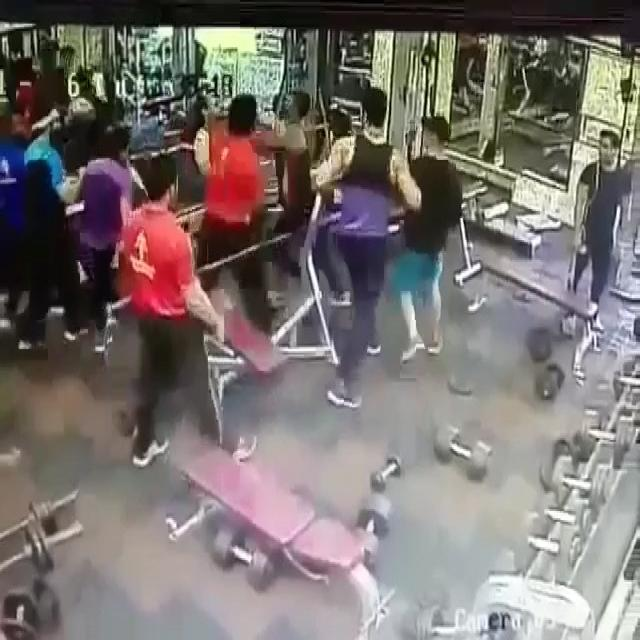fight: (88, 92, 268, 280)
